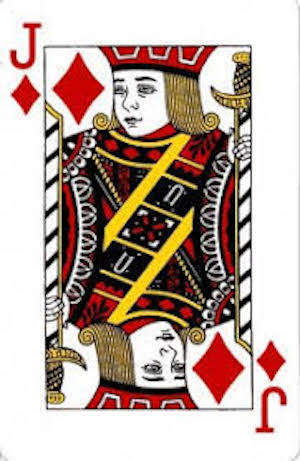JackOfDiamonds: (3, 5, 298, 441)
